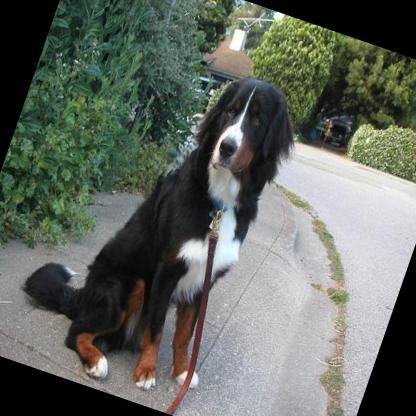Bernese_mountain_dog: (0, 25, 315, 413)
